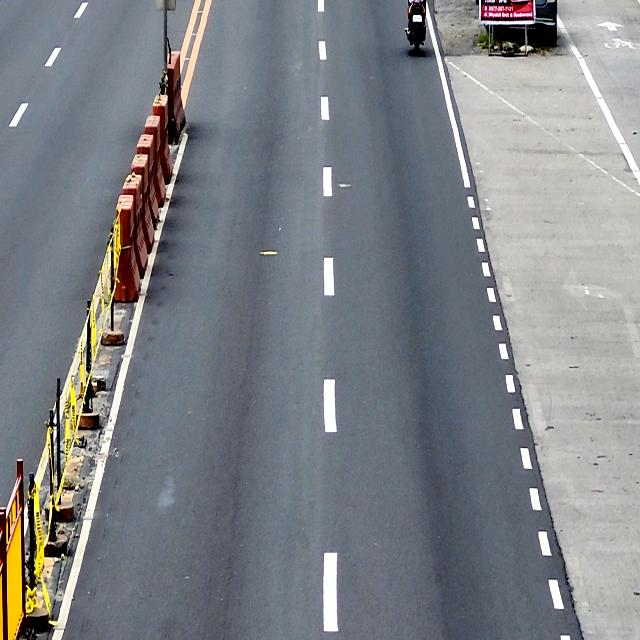License-Plate: (412, 14, 422, 23)
Motorcycle: (406, 0, 426, 56)
